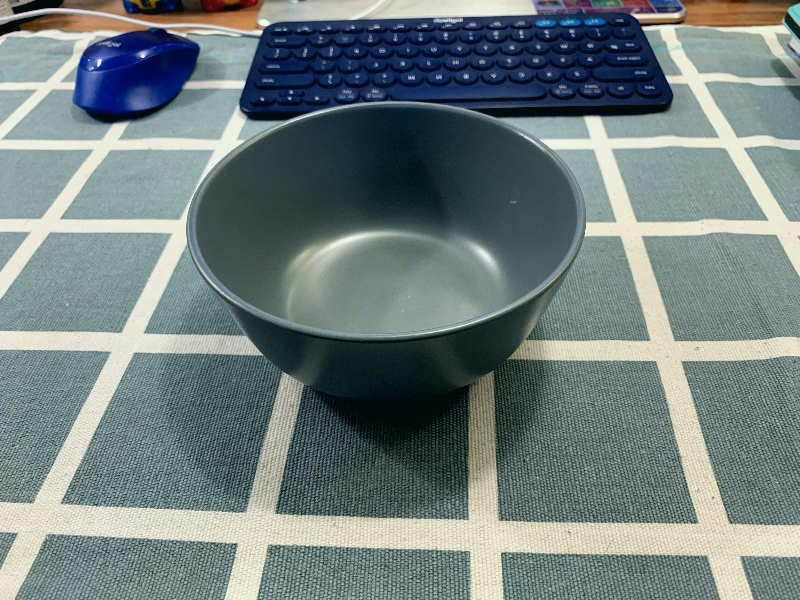bowl_big: (177, 97, 592, 409)
